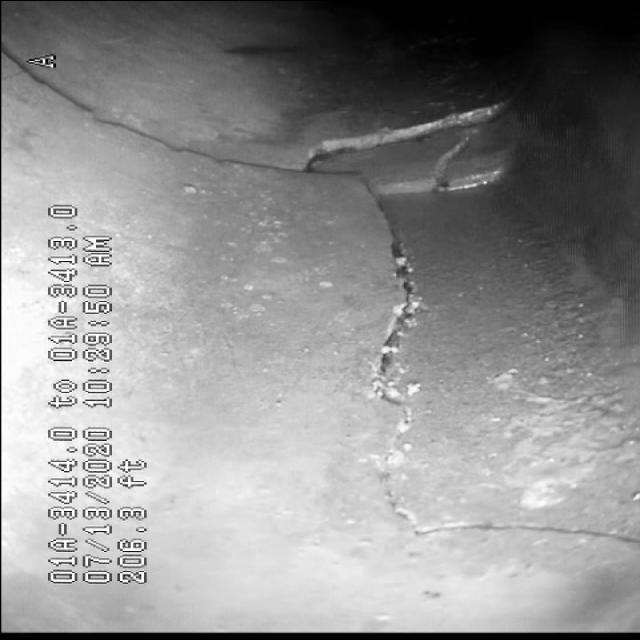Fracture: (284, 99, 504, 558)
